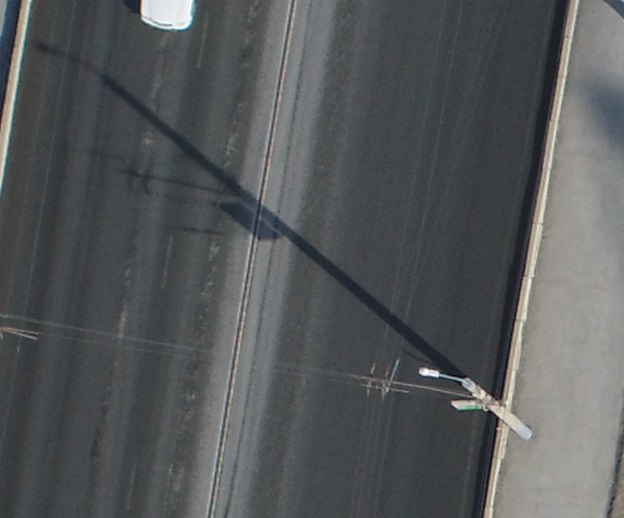opora: (402, 338, 540, 443)
